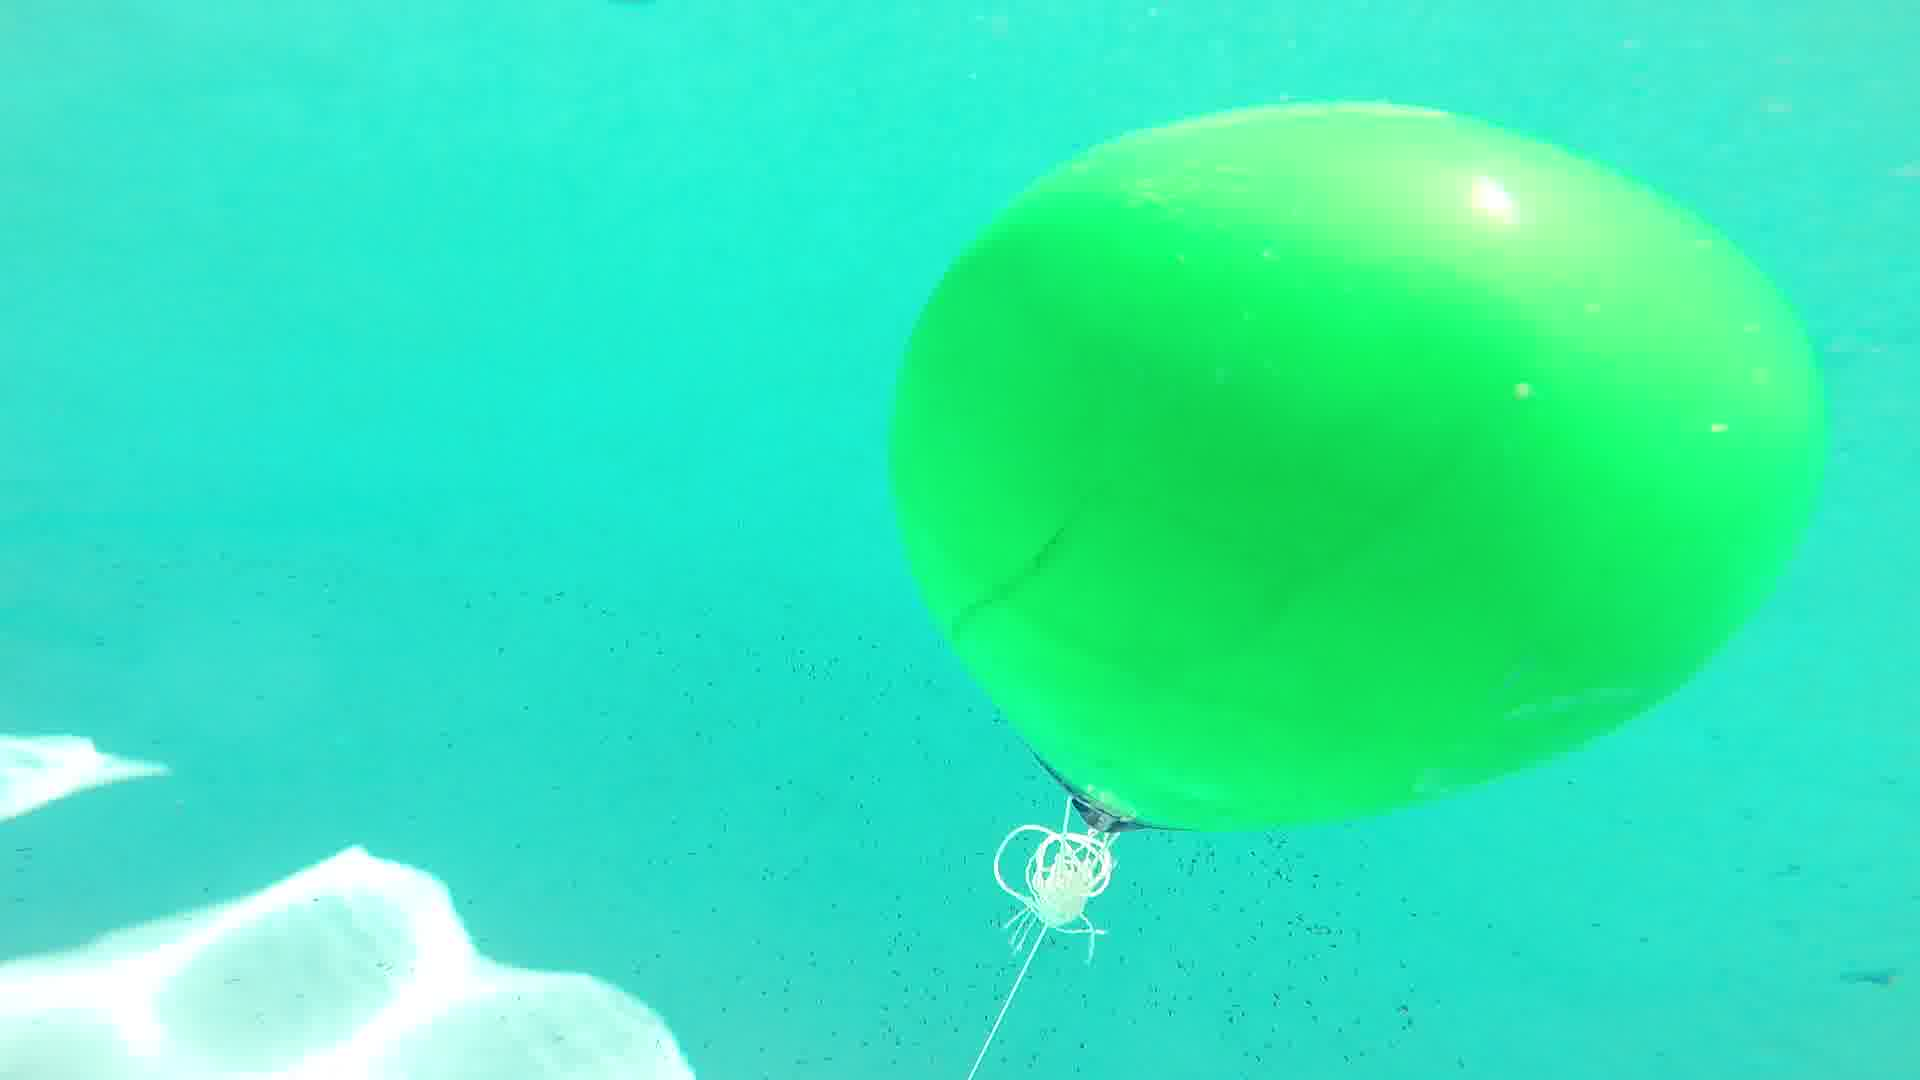yellow_buoy: (899, 105, 1825, 841)
